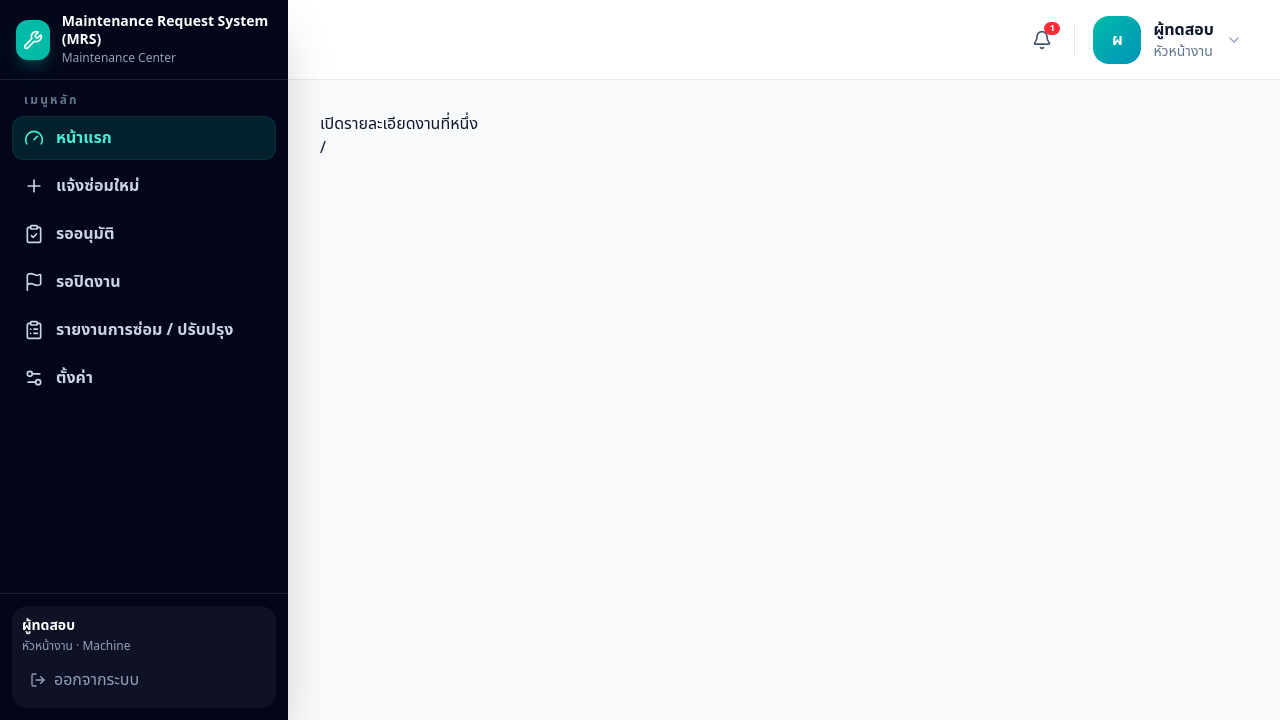
Test case: AppShell notifications › opens the matching request details route from the bell list
This screenshot has width=1280, height=720.
Click the button named "การแจ้งเตือนที่ยังไม่อ่าน 2 รายการ". click: (1042, 40)
box: [1022,20,1062,60]
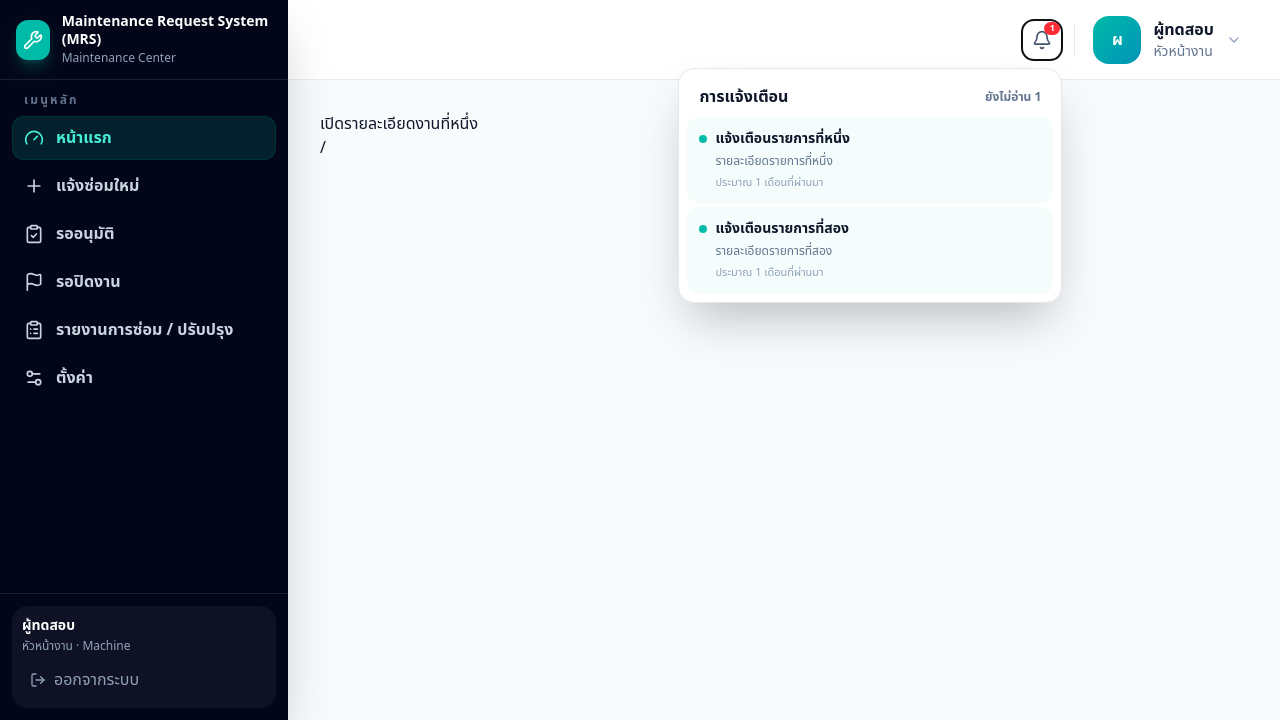
Click the button "แจ้งเตือนรายการที่หนึ่ง". click: (783, 138)
box: [687,116,1053,203]
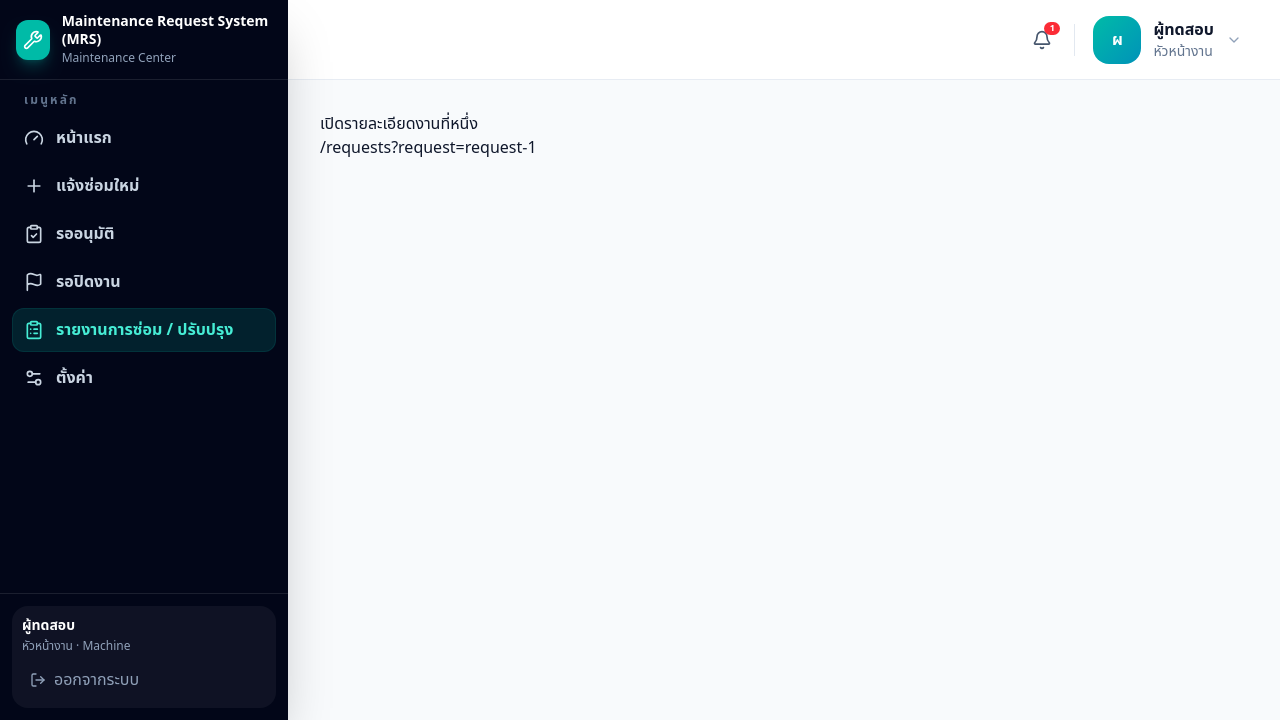
Now the text with test id "location" reads "/requests?request=request-1", box [320,136,536,160]
